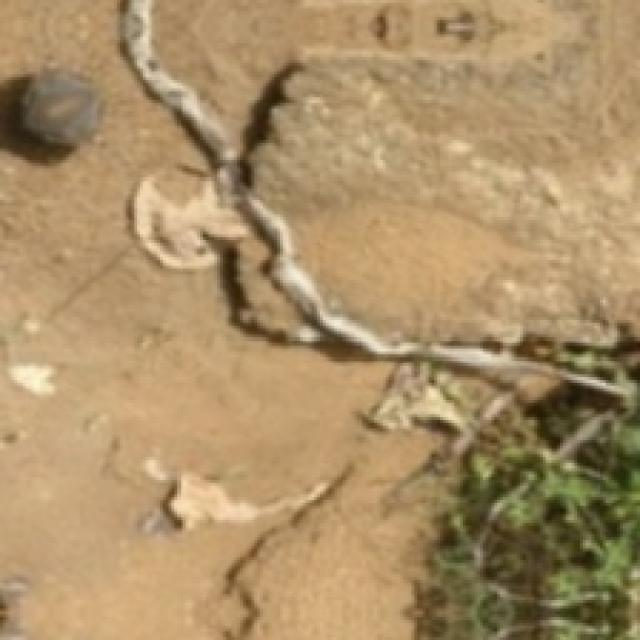king cobra: (123, 0, 591, 374), (431, 14, 474, 43)
